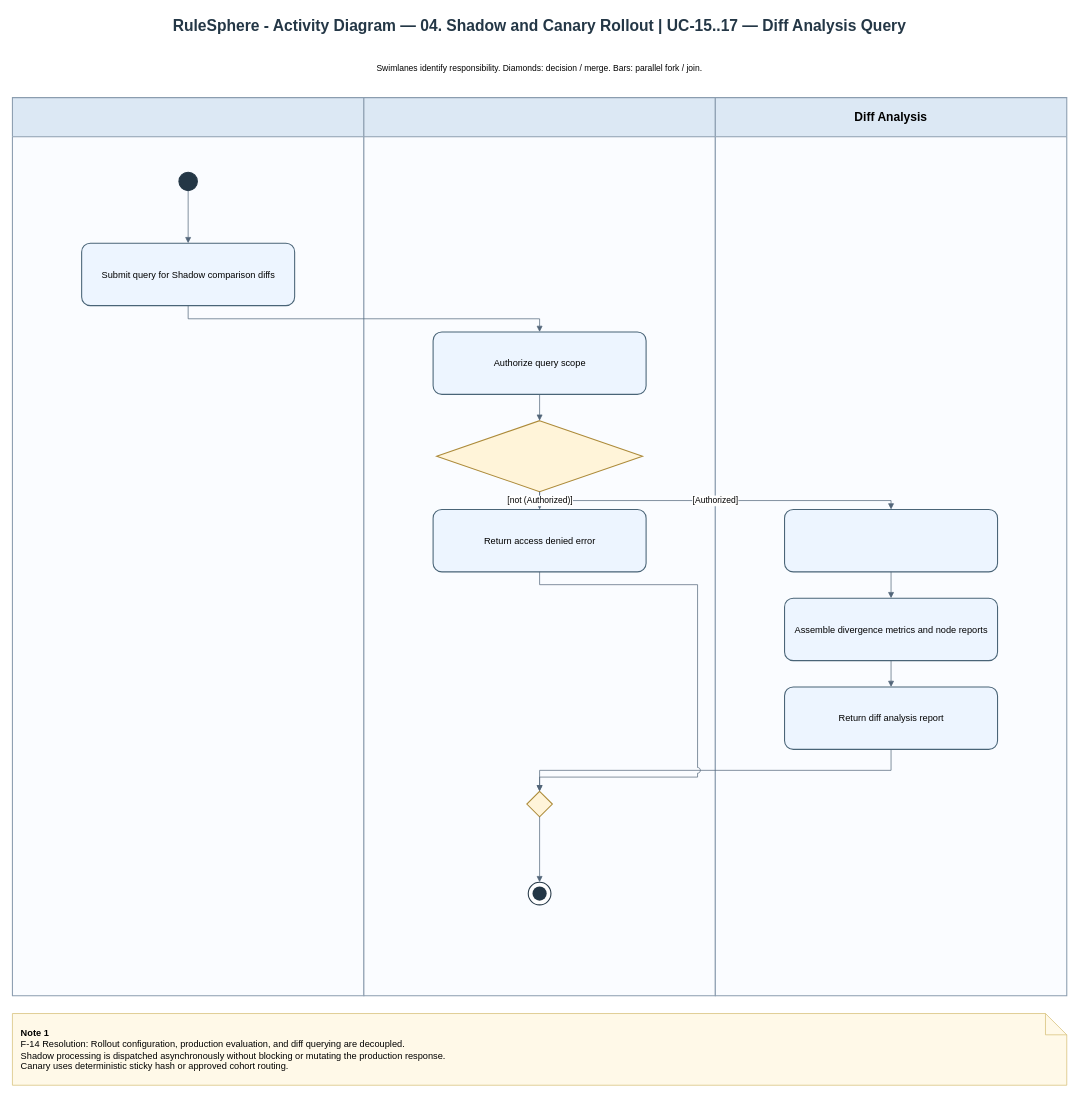
The diagram is 1080 pixels wide and 1098 high, and some of its shapes have lost their labels. The box of each missing label's shape, as (x1, y1, x2, y2) in pixels:
Authorized User / Analyst: (12, 97, 364, 996)
Authorized?: (436, 420, 643, 492)
Control / Delivery Plane: (363, 97, 716, 996)
Fetch protected diff records from store: (784, 509, 998, 572)
